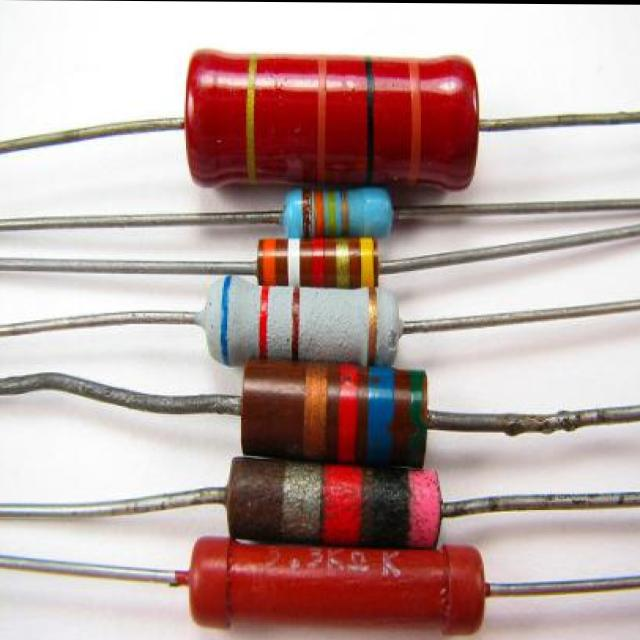Capacitor: (183, 50, 481, 192), (199, 541, 481, 626), (244, 366, 428, 471), (194, 276, 400, 367), (232, 460, 438, 551), (257, 235, 380, 311), (284, 185, 394, 240)
